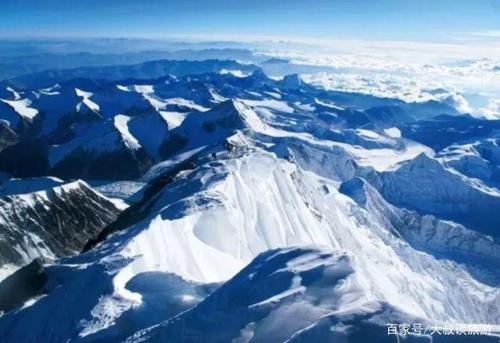mountain: (1, 72, 498, 339)
